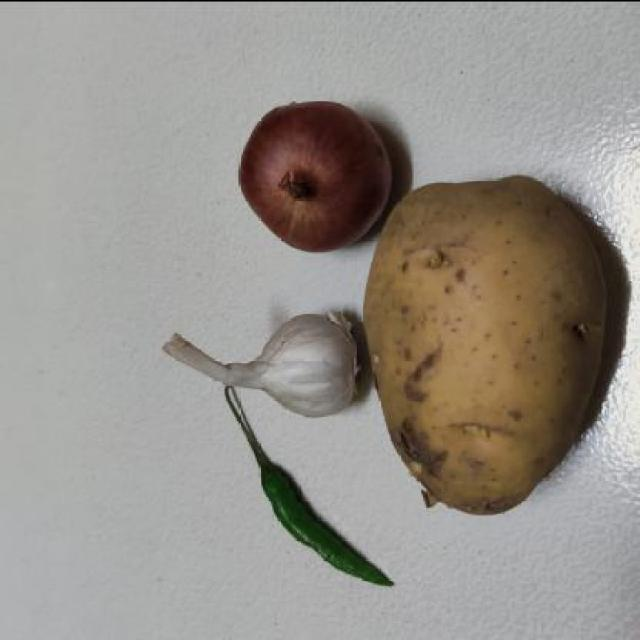Onion: (230, 87, 398, 260)
Potato: (372, 172, 618, 526)
